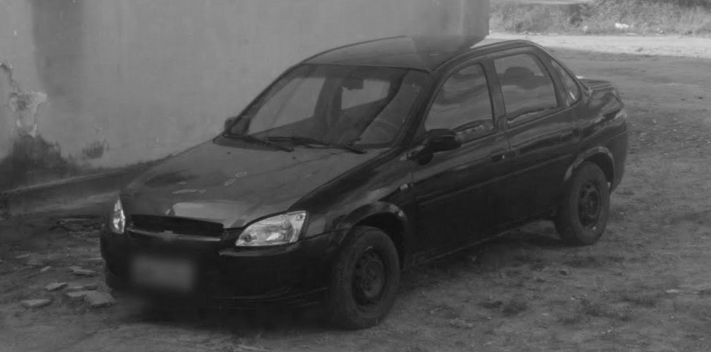car: (101, 33, 633, 337)
